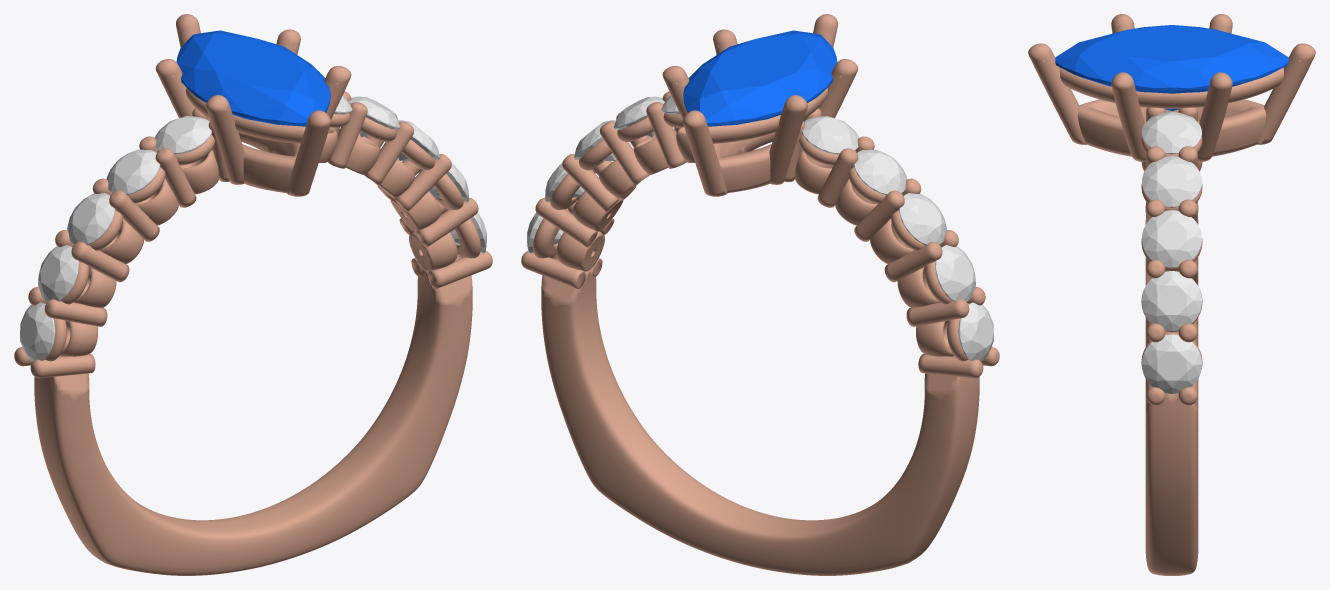
File: bluesapphire-marquise-rosegold-6prong-europeanshank-11stone.glb
3 renders of one model, left to right at view 1: azimuth 30°, elevation 25°; view 2: azimuth 150°, elevation 25°; view 3: azimuth 270°, elevation 25°, orthographic.
Parts seen in each view (by area): view 1: metal.001, stone.001, side.012, side.011, side.013, side.010, side.014, side.018; view 2: metal.001, stone.001, side.012, side.011, side.013, side.010, side.014, side.018; view 3: metal.001, stone.001, side.016, side.015, side.017, side.018, side.019.
Boxes of the visible parts, left/top/right/bottom form: metal.001: left=14, top=14, right=492, bottom=575; stone.001: left=176, top=30, right=330, bottom=126; side.012: left=67, top=193, right=114, bottom=245; side.011: left=38, top=245, right=78, bottom=301; side.013: left=106, top=149, right=160, bottom=194; side.010: left=20, top=302, right=55, bottom=361; side.014: left=154, top=116, right=211, bottom=154; side.018: left=349, top=96, right=400, bottom=137; metal.001: left=521, top=14, right=999, bottom=575; stone.001: left=683, top=30, right=837, bottom=126; side.012: left=899, top=193, right=946, bottom=245; side.011: left=935, top=245, right=975, bottom=301; side.013: left=853, top=149, right=907, bottom=195; side.010: left=958, top=302, right=993, bottom=361; side.014: left=802, top=116, right=859, bottom=154; side.018: left=613, top=96, right=664, bottom=137; metal.001: left=1028, top=14, right=1315, bottom=575; stone.001: left=1055, top=25, right=1288, bottom=111; side.016: left=1142, top=271, right=1201, bottom=330; side.015: left=1142, top=334, right=1201, bottom=393; side.017: left=1142, top=210, right=1201, bottom=267; side.018: left=1142, top=156, right=1201, bottom=207; side.019: left=1142, top=112, right=1201, bottom=154.
Size of the model in its own units: 21.88 by 22.73 by 11.96.
